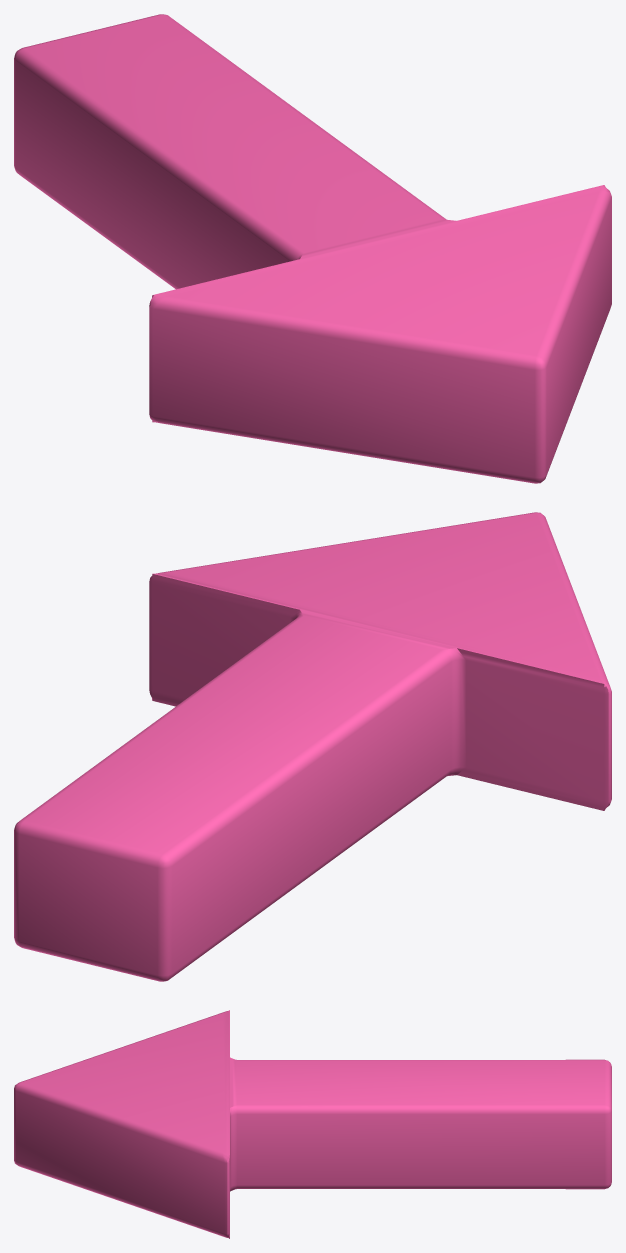
Rendered from PingArrowPlaceholder.fbx.
3 renders of one model, top to bottom at view 1: azimuth 30°, elevation 25°; view 2: azimuth 150°, elevation 25°; view 3: azimuth 270°, elevation 25°, orthographic. The views are drawn at different scales.
Parts seen in each view (by area): view 1: Cube; view 2: Cube; view 3: Cube.
Boxes of the visible parts, x1,y1,x2,y2 form: Cube: (14, 14, 611, 483); Cube: (14, 512, 611, 981); Cube: (14, 1010, 611, 1238).
Size of the model in its own units: 0.7359 by 1.25 by 0.1934.
